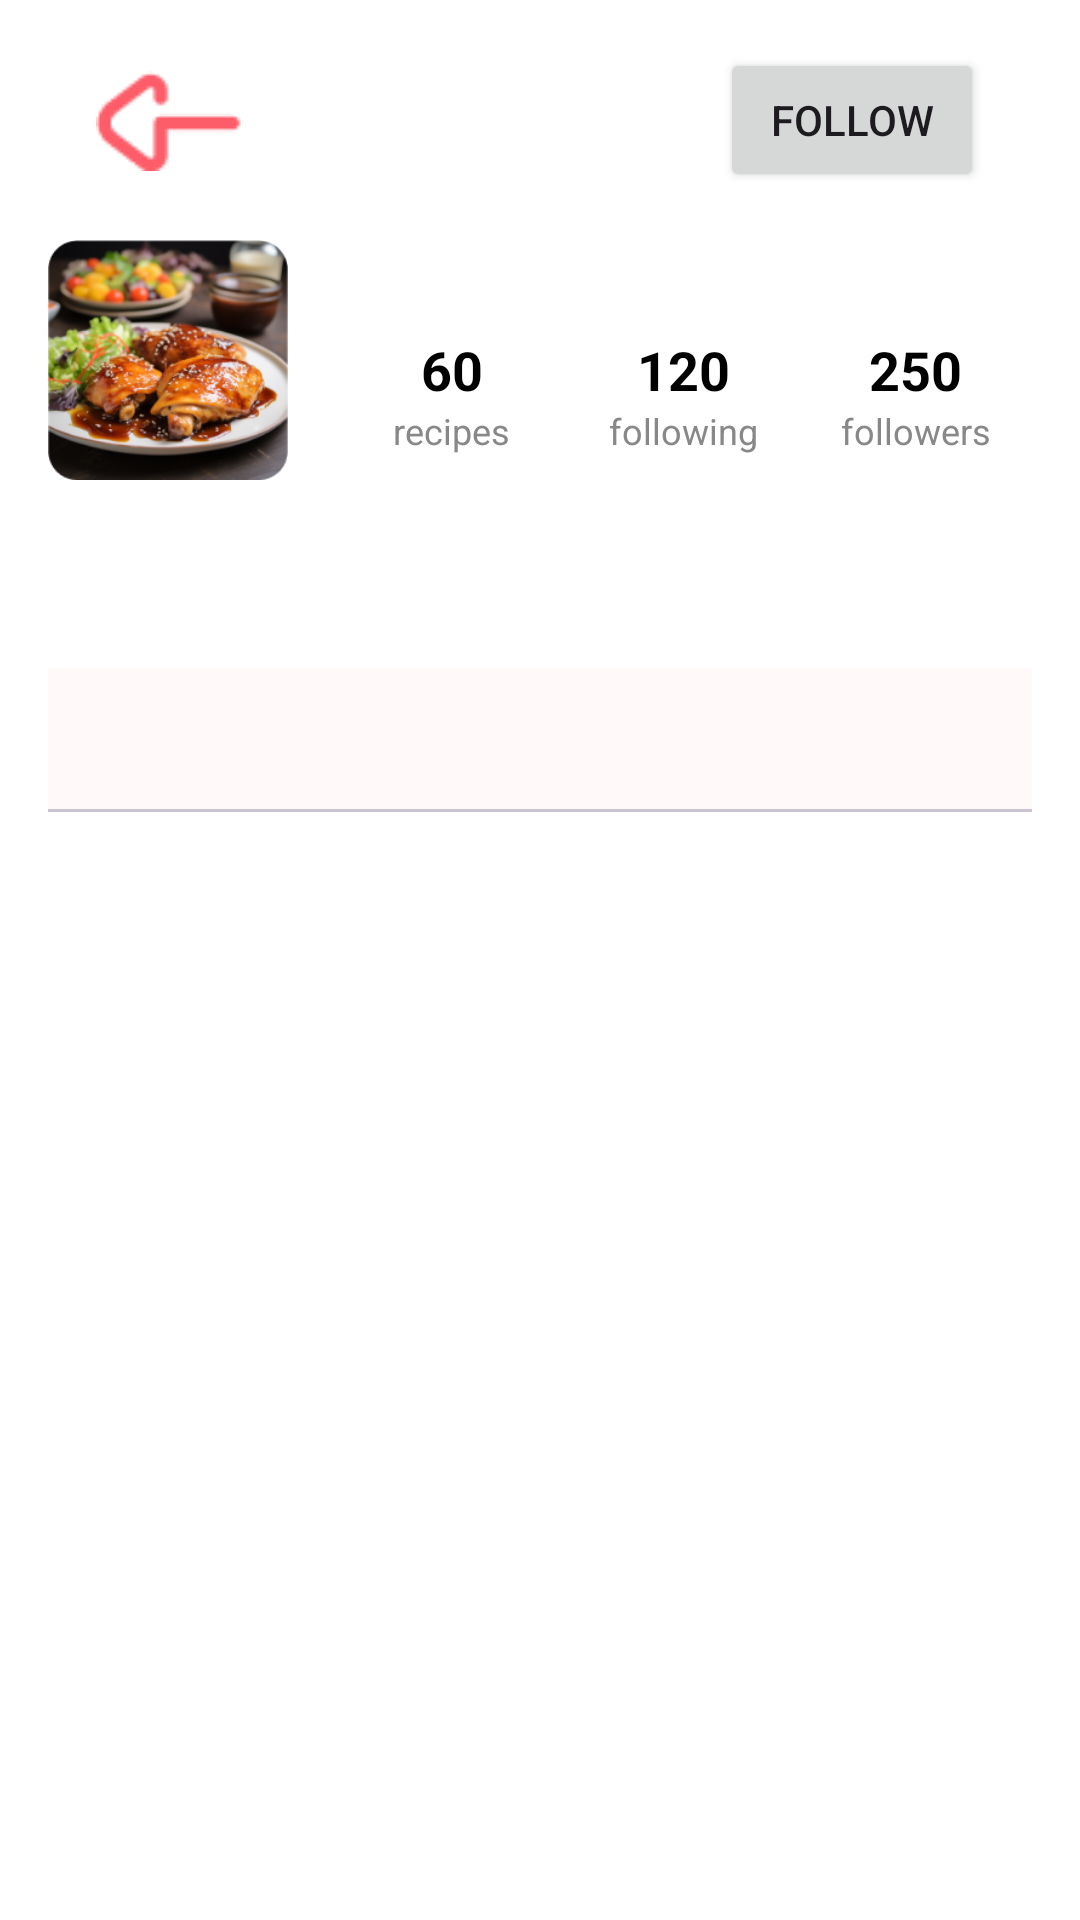

Screen size 1080×1920. Icon name, then its box in pixels as [x1=x1, y1=y1, x2=x2, y2=y2]:
back arrow: [x1=96, y1=74, x2=241, y2=171]
chicken: [x1=48, y1=240, x2=288, y2=480]
